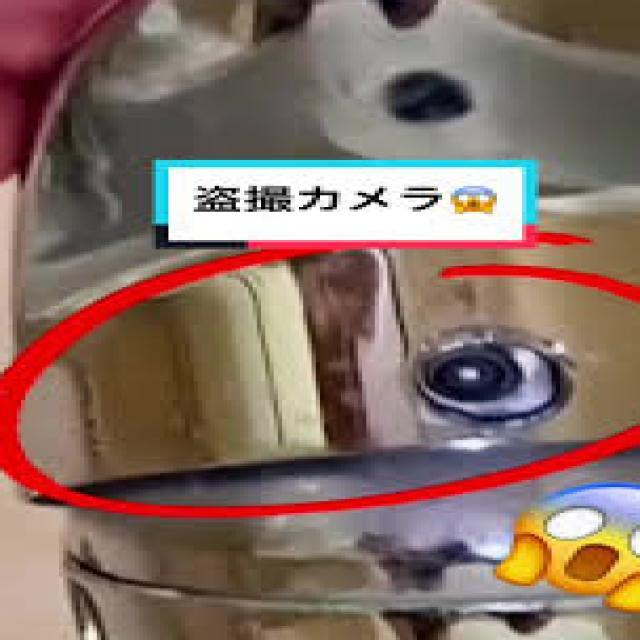hidden camera: (427, 358, 511, 397)
